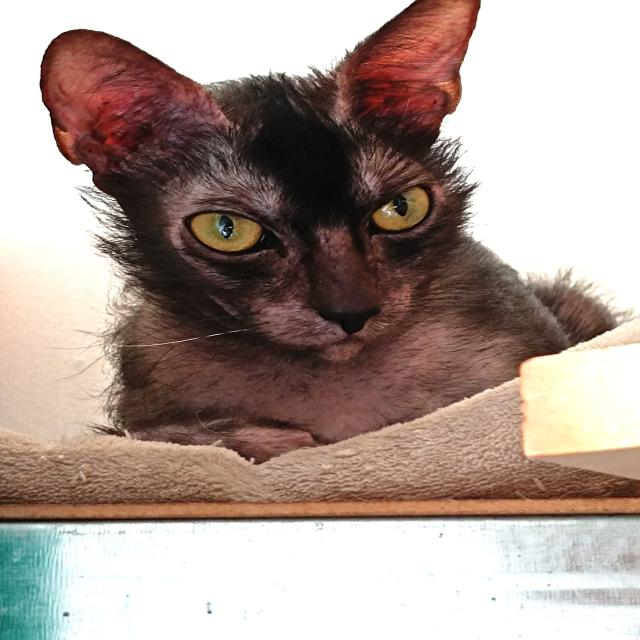Lykoi: (32, 0, 622, 469)
